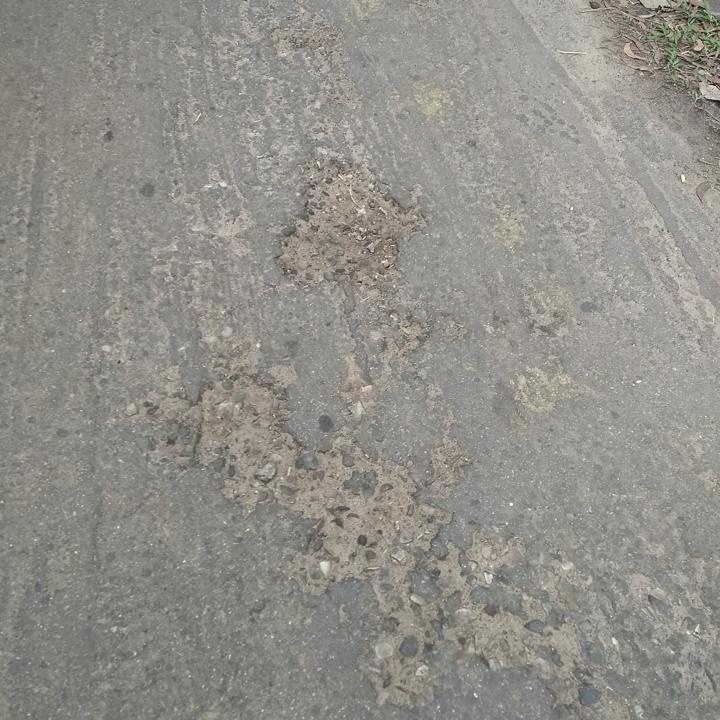pothole: (300, 436, 449, 584), (274, 156, 434, 293), (186, 365, 305, 509)
